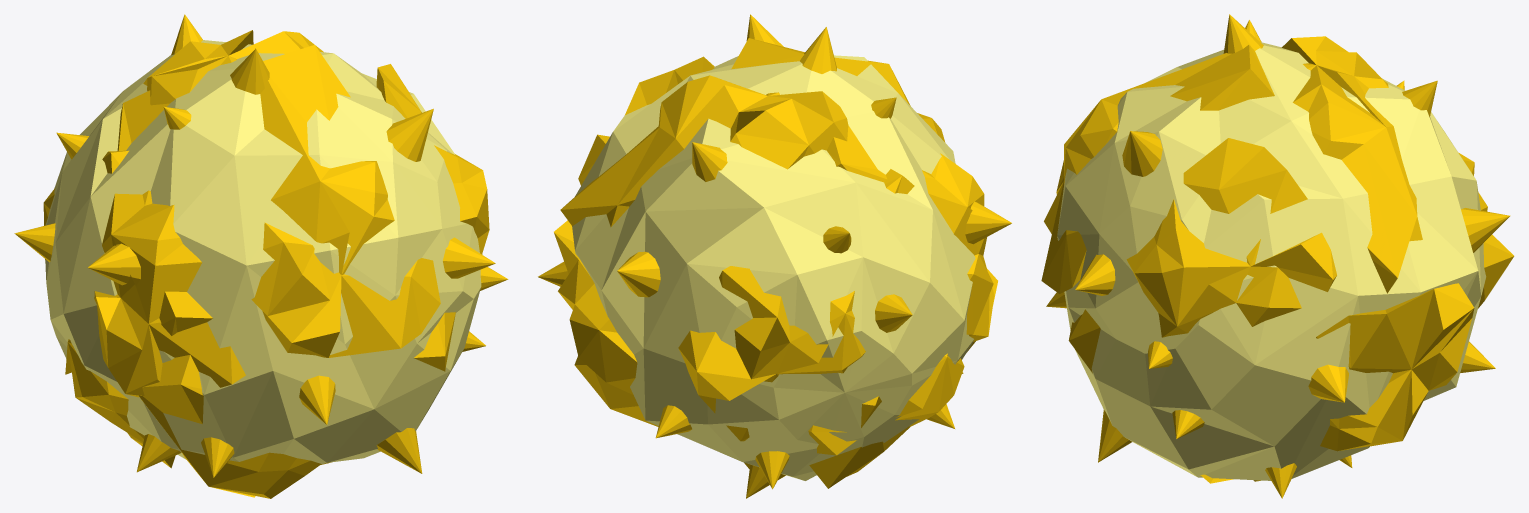
The model's file is sun.gltf.
3 renders of one model, left to right at view 1: azimuth 30°, elevation 25°; view 2: azimuth 150°, elevation 25°; view 3: azimuth 270°, elevation 25°, orthographic. The views are drawn at different scales.
Visible parts, largest first — view 1: model.232, model.133, model.134, model.139, model.135, model.131, model.137, model.128, model.127, model.144, model.152, model.150 (+6 smaller); view 2: model.232, model.131, model.132, model.136, model.134, model.137, model.133, model.135, model.130, model.127, model.147, model.129 (+4 smaller); view 3: model.232, model.135, model.131, model.136, model.133, model.128, model.132, model.149, model.130, model.144, model.154, model.150 (+5 smaller).
Part boxes in pixels (x1=…): model.232: x1=45, y1=40, x2=482, y2=464; model.133: x1=251, y1=45, x2=440, y2=357; model.134: x1=94, y1=90, x2=245, y2=397; model.139: x1=139, y1=355, x2=331, y2=498; model.135: x1=376, y1=64, x2=489, y2=371; model.131: x1=143, y1=30, x2=323, y2=105; model.137: x1=65, y1=291, x2=212, y2=468; model.128: x1=386, y1=108, x2=433, y2=161; model.127: x1=87, y1=243, x2=140, y2=285; model.144: x1=443, y1=237, x2=495, y2=278; model.152: x1=299, y1=375, x2=335, y2=424; model.150: x1=376, y1=428, x2=422, y2=473; model.232: x1=572, y1=55, x2=975, y2=480; model.131: x1=560, y1=75, x2=848, y2=226; model.132: x1=678, y1=169, x2=914, y2=441; model.136: x1=554, y1=220, x2=658, y2=426; model.134: x1=827, y1=125, x2=994, y2=341; model.137: x1=808, y1=353, x2=964, y2=488; model.133: x1=731, y1=38, x2=945, y2=142; model.135: x1=578, y1=56, x2=714, y2=185; model.130: x1=617, y1=251, x2=660, y2=297; model.127: x1=965, y1=201, x2=1011, y2=244; model.147: x1=692, y1=142, x2=727, y2=181; model.129: x1=875, y1=294, x2=912, y2=332; model.232: x1=1057, y1=42, x2=1486, y2=480; model.135: x1=1068, y1=138, x2=1336, y2=373; model.131: x1=1281, y1=36, x2=1422, y2=293; model.136: x1=1316, y1=283, x2=1474, y2=451; model.133: x1=1041, y1=45, x2=1274, y2=293; model.128: x1=1122, y1=131, x2=1162, y2=176; model.132: x1=1458, y1=152, x2=1514, y2=308; model.149: x1=1308, y1=364, x2=1348, y2=402; model.130: x1=1461, y1=208, x2=1510, y2=252; model.144: x1=1075, y1=254, x2=1115, y2=295; model.154: x1=1223, y1=14, x2=1263, y2=53; model.150: x1=1098, y1=410, x2=1131, y2=462.
Size of the model in its own units: 19.74 by 20.08 by 19.38.
